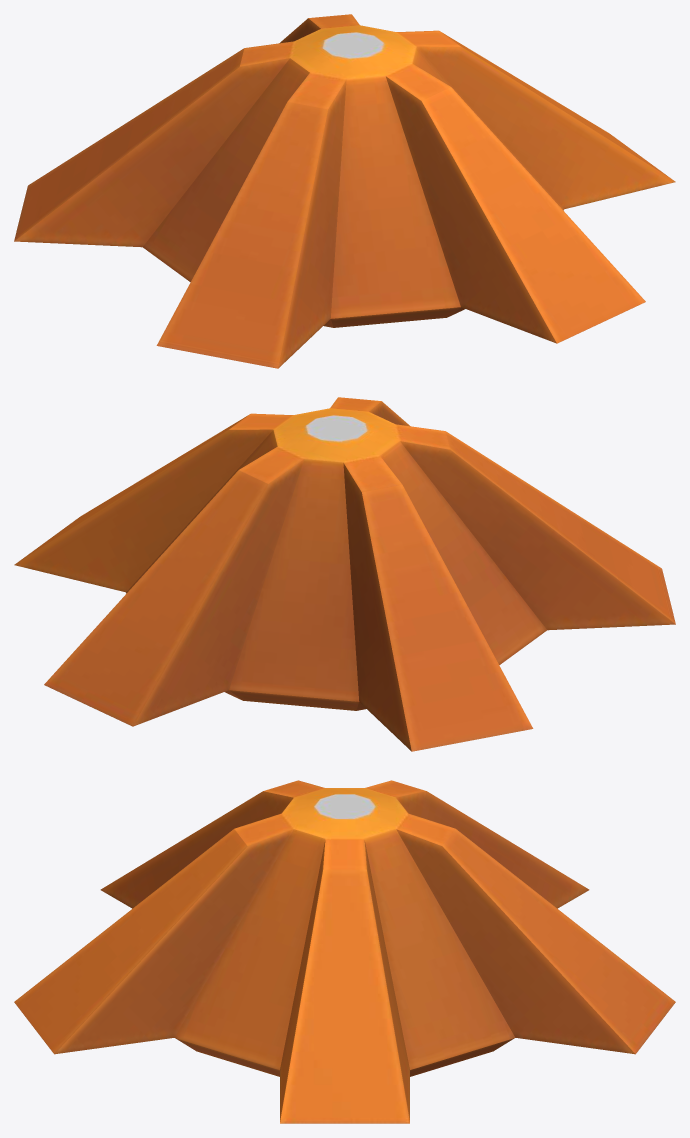
The model's file is obj_gear01_base.gltf.
3 views of the same model, one above another, from view 1: azimuth 30°, elevation 25°; view 2: azimuth 150°, elevation 25°; view 3: azimuth 270°, elevation 25° (orthographic). The views are drawn at different scales.
Parts seen in each view (by area): view 1: obj_gear01_base; view 2: obj_gear01_base; view 3: obj_gear01_base.
Boxes of the visible parts, left/top/right/bottom form: obj_gear01_base: left=14, top=14, right=675, bottom=368; obj_gear01_base: left=14, top=397, right=675, bottom=751; obj_gear01_base: left=14, top=780, right=675, bottom=1123.
Size of what is drawn, in the model's own units: 0.313 by 0.1093 by 0.3291.
Materials: 1 (1 with a texture image).
